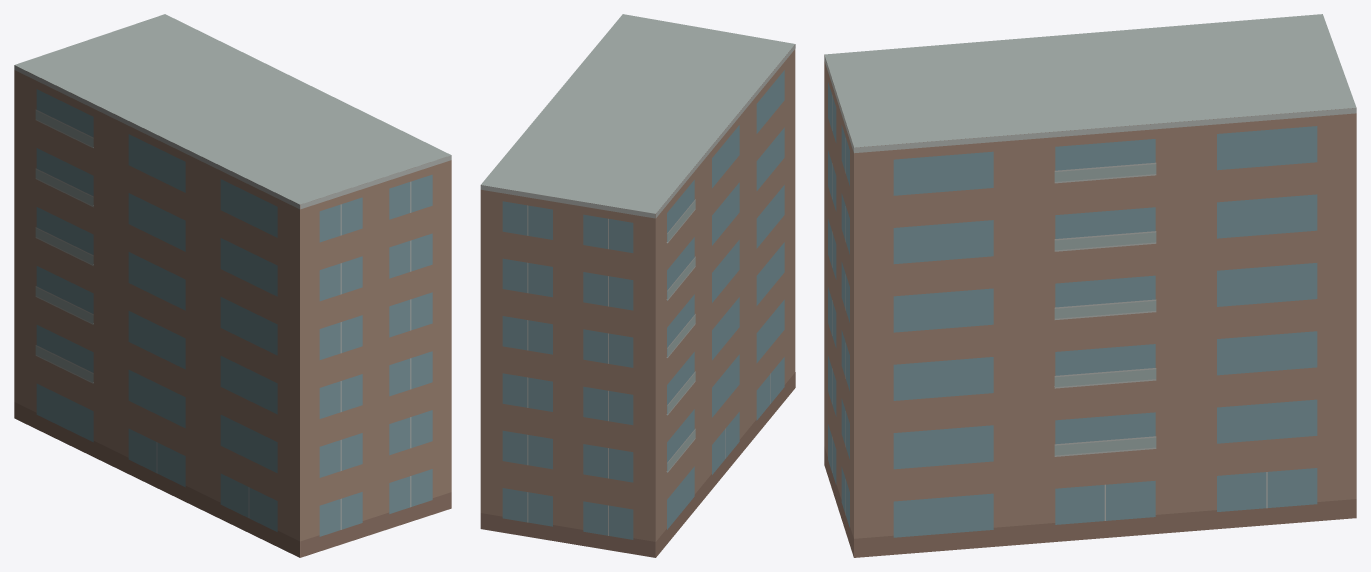
The model's file is survey-upis-32995988.glb.
3 views of the same model, side by side, from view 1: azimuth 30°, elevation 25°; view 2: azimuth 150°, elevation 25°; view 3: azimuth 270°, elevation 25° (orthographic). The views are drawn at different scales.
Parts seen in each view (by area): view 1: survey-upis-32995988.tmp; view 2: survey-upis-32995988.tmp; view 3: survey-upis-32995988.tmp.
Part boxes in pixels (box(x1,y1,x2,y2)): survey-upis-32995988.tmp: box(14, 14, 451, 557); survey-upis-32995988.tmp: box(480, 14, 795, 557); survey-upis-32995988.tmp: box(824, 14, 1356, 557).
Bounding box in the file's own units: 12.44 × 17.8 × 20.94.
